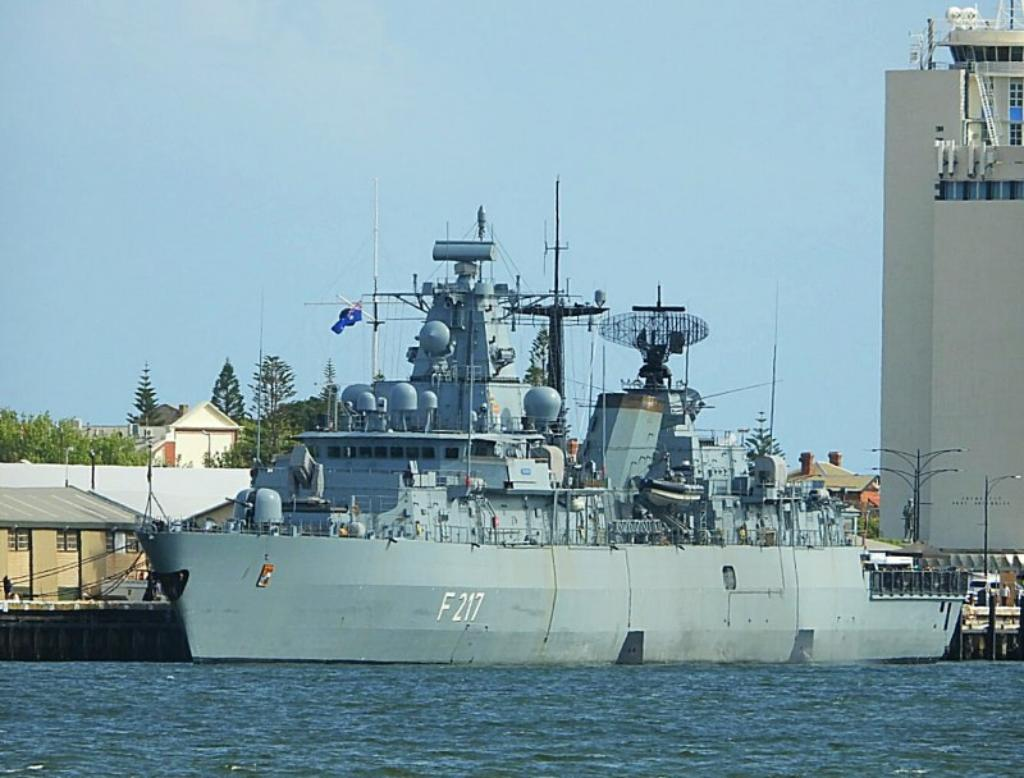Warship: (144, 177, 972, 669)
